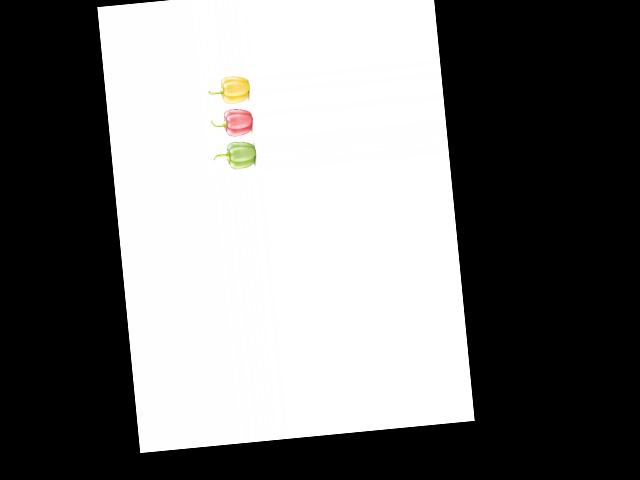bell_pepper: (212, 140, 259, 174)
